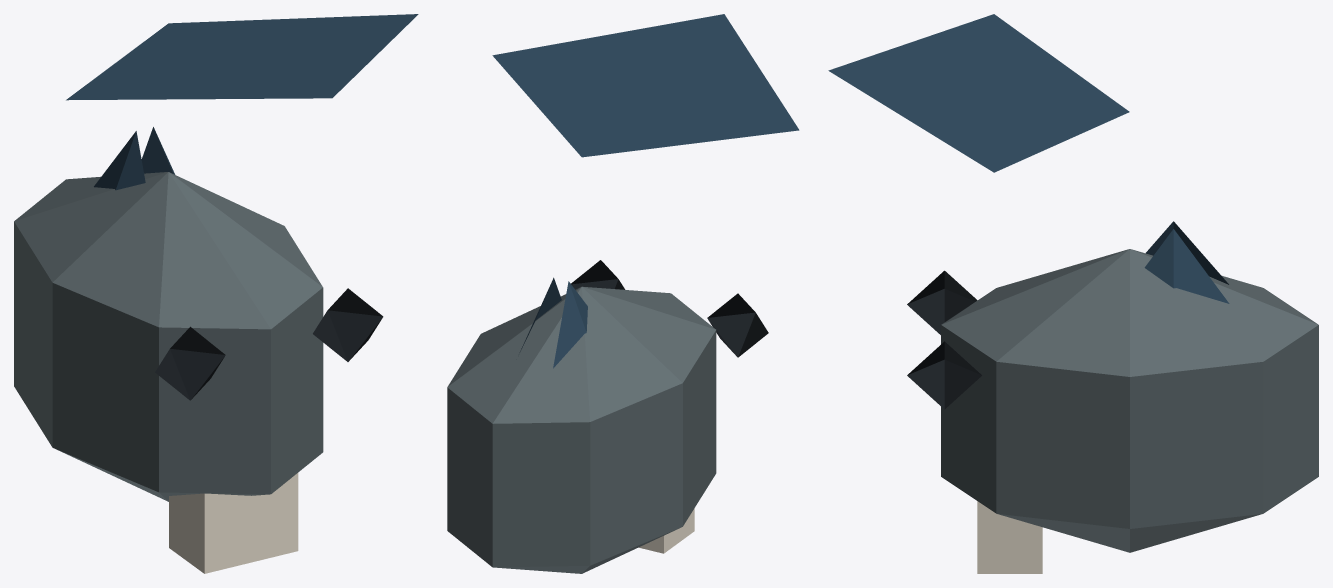
File: fish_catfish.glb
The picture shows the model from 3 angles, left to right: view 1: azimuth 30°, elevation 25°; view 2: azimuth 150°, elevation 25°; view 3: azimuth 270°, elevation 25°; orthographic projection. The views are drawn at different scales.
Visible parts, largest first — view 1: fish_catfish; view 2: fish_catfish; view 3: fish_catfish.
Part boxes in pixels (bbox=[...]): fish_catfish: bbox=[14, 14, 418, 573]; fish_catfish: bbox=[447, 14, 799, 573]; fish_catfish: bbox=[828, 14, 1318, 573].
Size of the model in its own units: 0.7062 by 1 by 0.9223.
